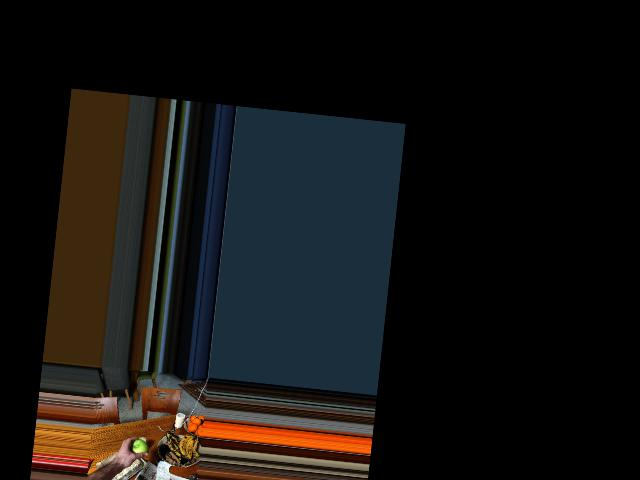apple: (124, 437, 150, 460)
